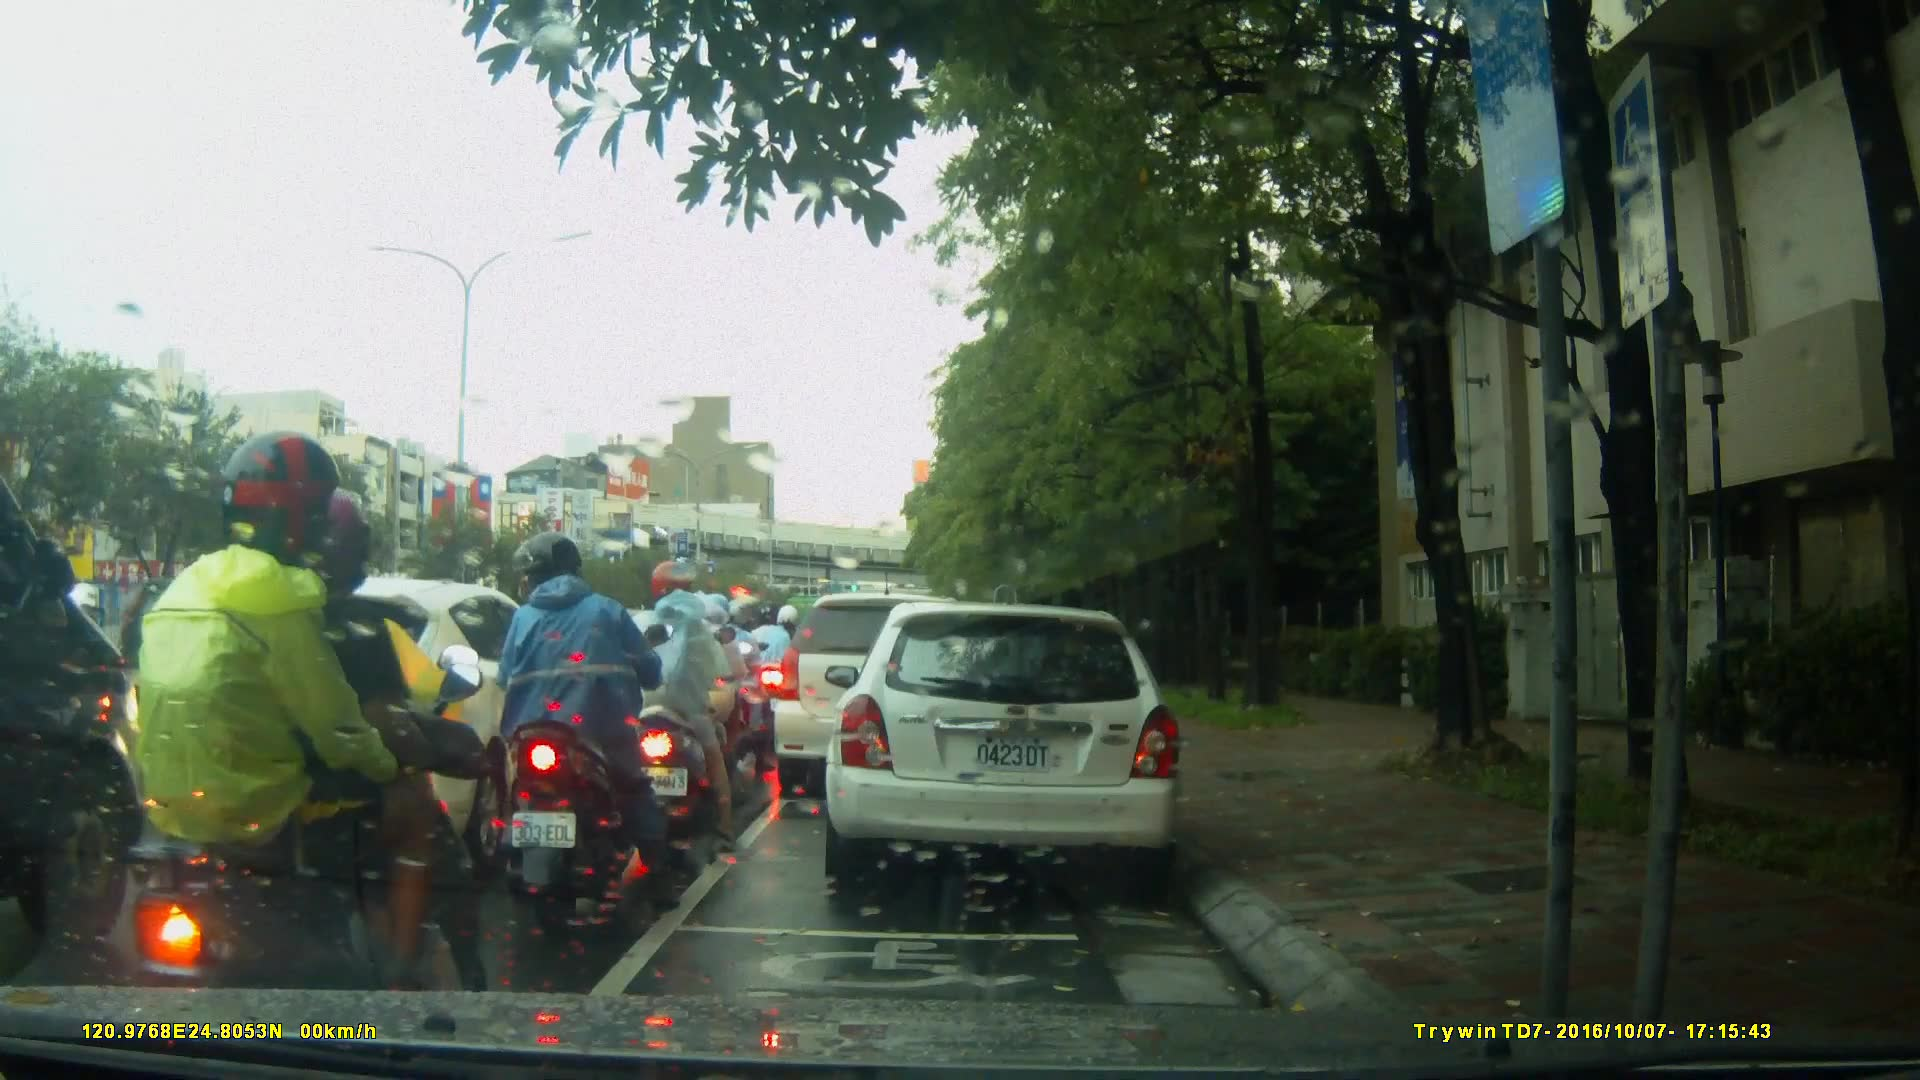rider: (125, 429, 488, 1023), (226, 523, 482, 1013), (500, 530, 682, 907), (616, 560, 738, 839), (665, 587, 761, 807), (743, 600, 800, 745)
vehicle: (212, 577, 608, 855), (822, 604, 1188, 883), (1, 452, 159, 985), (774, 595, 995, 802)
